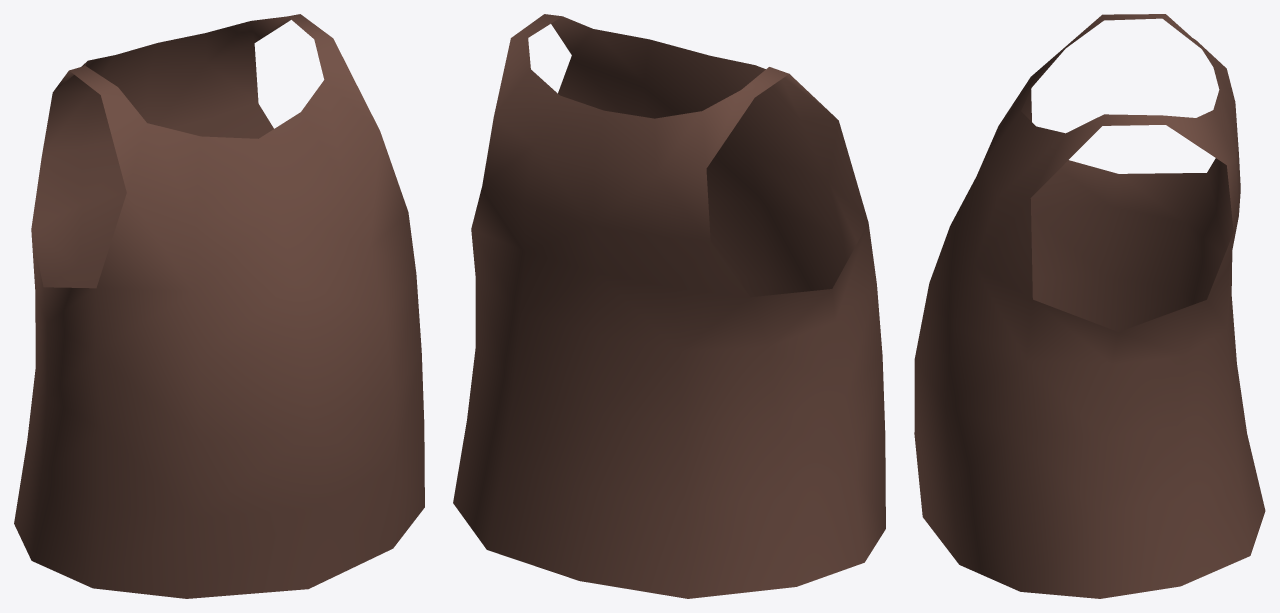
Rendered from Outerwear_Brown_008.glb.
3 views of the same model, side by side, from view 1: azimuth 30°, elevation 25°; view 2: azimuth 150°, elevation 25°; view 3: azimuth 270°, elevation 25° (orthographic). The views are drawn at different scales.
Visible parts, largest first — view 1: Outerwear_Brown_008; view 2: Outerwear_Brown_008; view 3: Outerwear_Brown_008.
Boxes of the visible parts, x1,y1,x2,y2 form: Outerwear_Brown_008: (14, 14, 424, 598); Outerwear_Brown_008: (453, 14, 885, 598); Outerwear_Brown_008: (914, 14, 1265, 598).
Size of the model in its own units: 0.4419 by 0.519 by 0.3668.
1 material, 1 textured.
